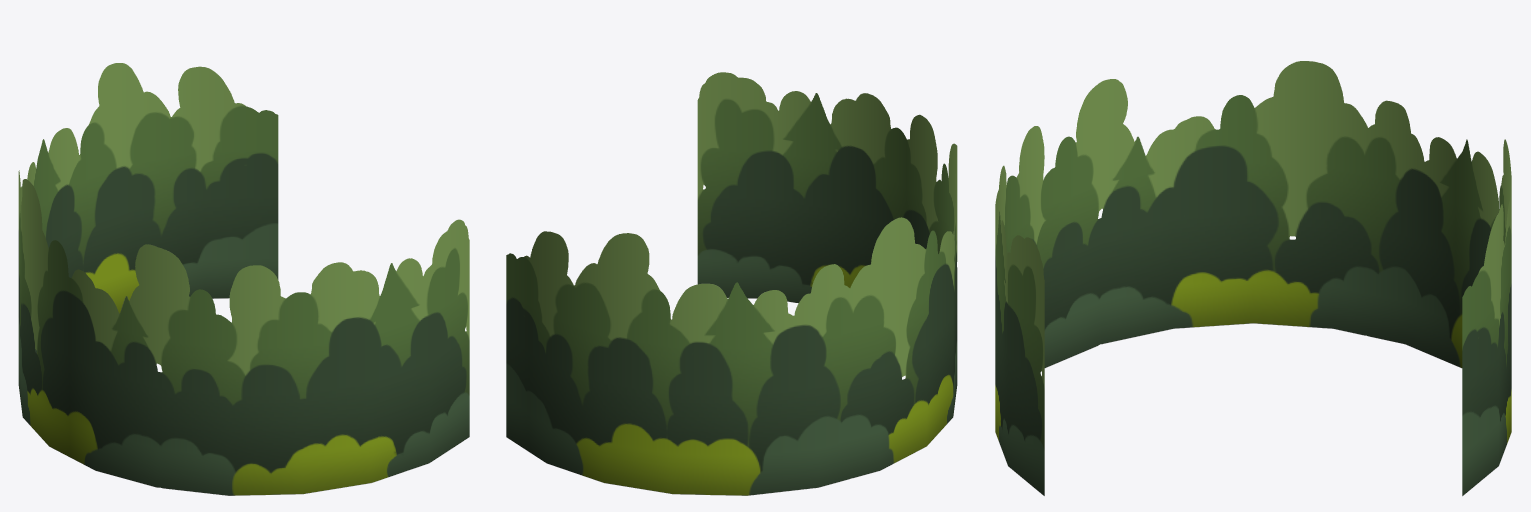
The model's file is BILLBOARD.fbx.
The picture shows the model from 3 angles, left to right: view 1: azimuth 30°, elevation 25°; view 2: azimuth 150°, elevation 25°; view 3: azimuth 270°, elevation 25°; orthographic projection. The views are drawn at different scales.
Parts seen in each view (by area): view 1: pPipe1; view 2: pPipe1; view 3: pPipe1.
Part boxes in pixels (x1,y1,x2,y2): pPipe1: (18, 63, 469, 495); pPipe1: (506, 72, 957, 495); pPipe1: (995, 61, 1511, 496).
Size of the model in its own units: 1.59 by 1.29 by 2.
1 material, 1 textured.
